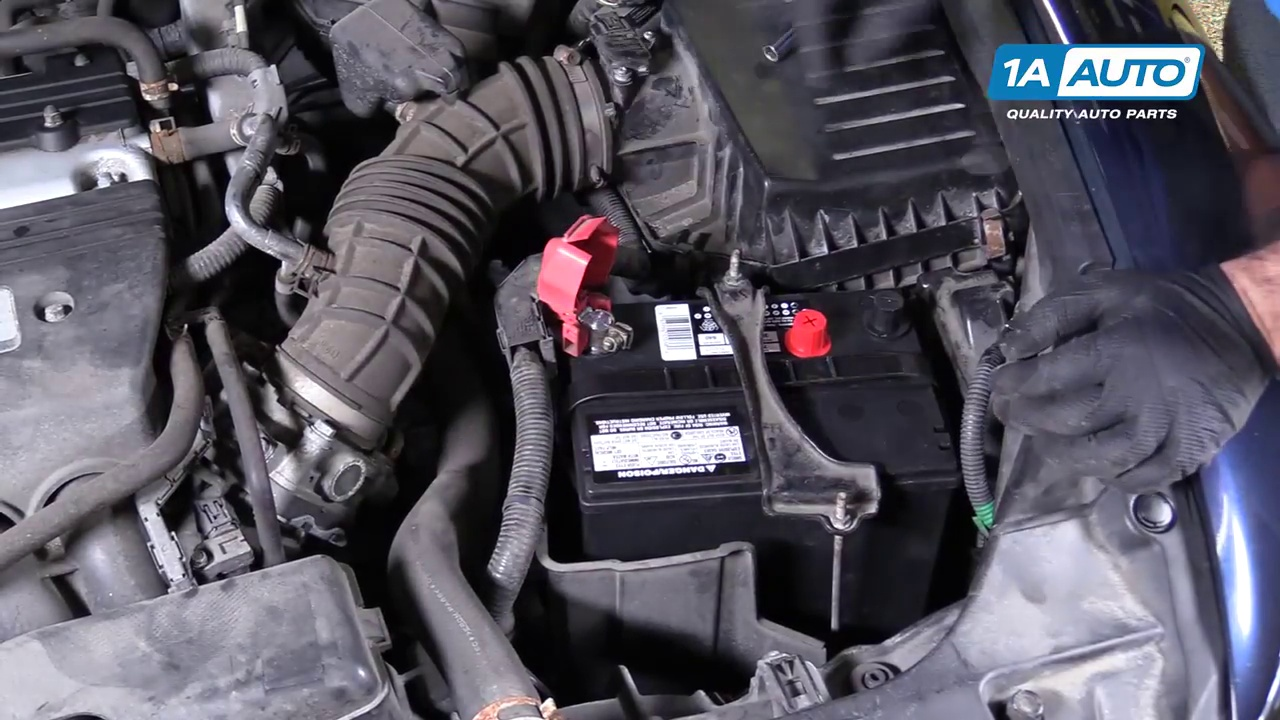battery: (546, 275, 963, 491)
pos_connected: (501, 228, 656, 370)
